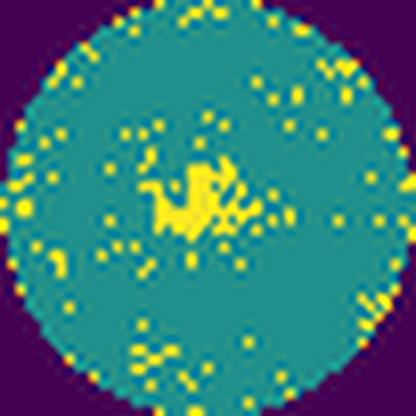Center: (149, 156, 265, 242)
